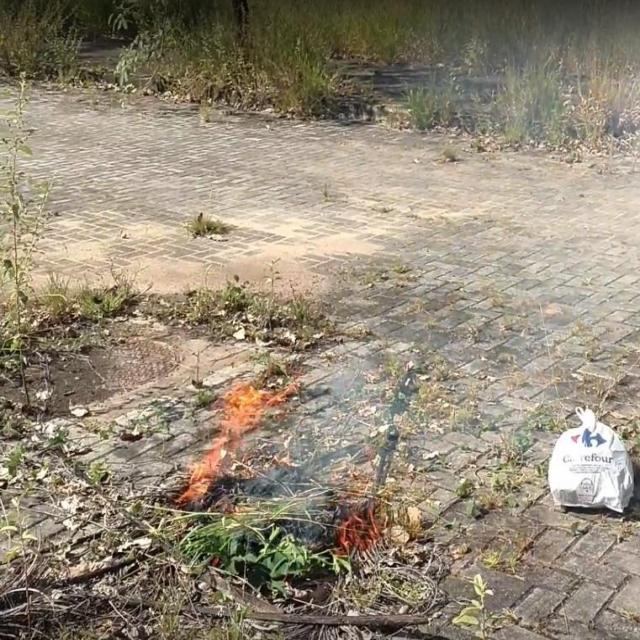Fire: (174, 382, 286, 501), (335, 510, 386, 548)
